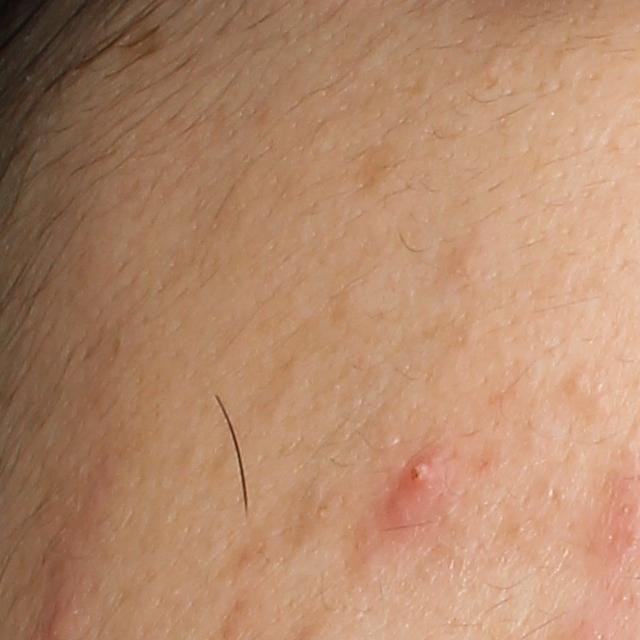comedo: (557, 369, 595, 408)
